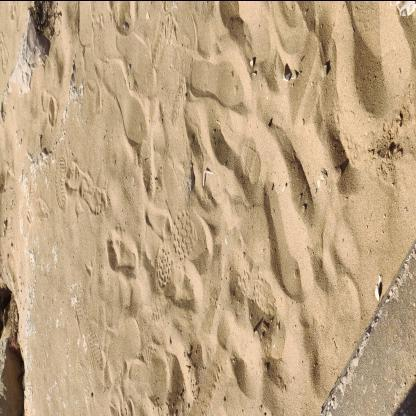plastik: (204, 170, 214, 186)
